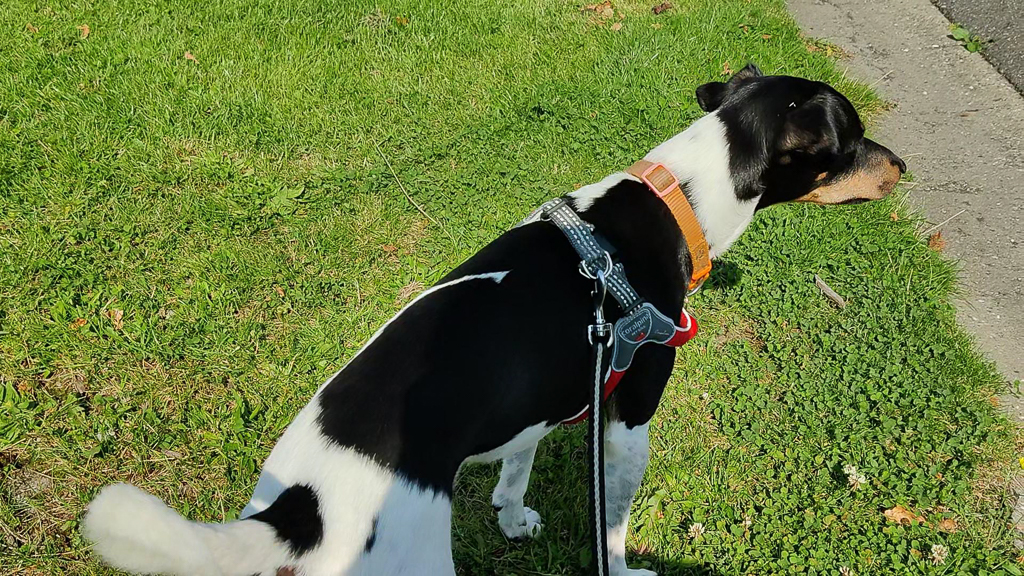Dog: (67, 59, 917, 576)
